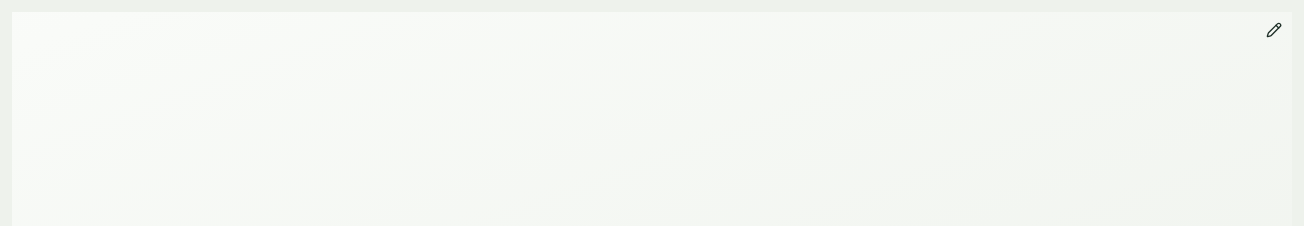
Test: CustomerNoteField › keeps the editor closed until the pencil is used, hides merge leftovers, and saves on blur
The width and height of the screenshot is (1304, 226).
Later steps or results of the test are not shown.
Click the button named "Edit notes for Ada".
click(1274, 30)  # box left=1256, top=12, right=1292, bottom=48
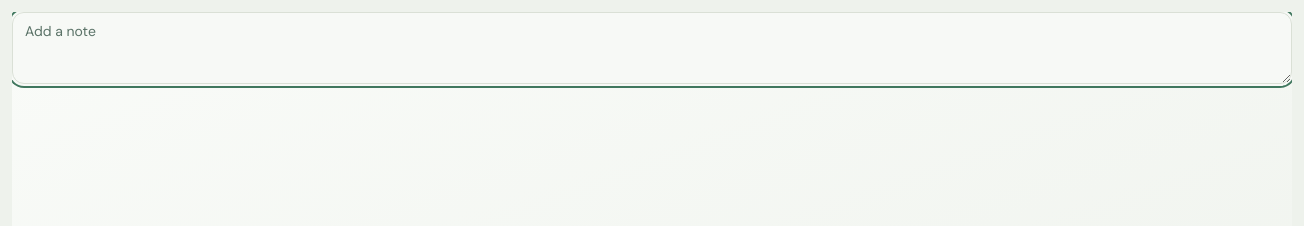
Now the text box named "Notes for Ada" is empty, box left=12, top=12, right=1292, bottom=84
